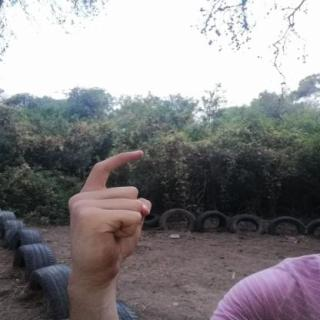RAA: (58, 140, 160, 282)
